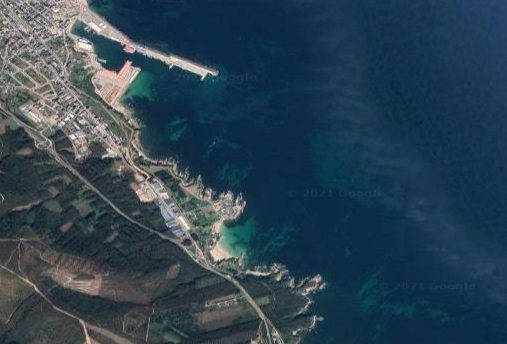harbor: (71, 5, 219, 109)
industrial: (158, 201, 191, 235)
motorway: (1, 107, 55, 156), (193, 256, 244, 290), (142, 226, 193, 260), (244, 291, 279, 339), (98, 193, 142, 231), (55, 156, 99, 194)
